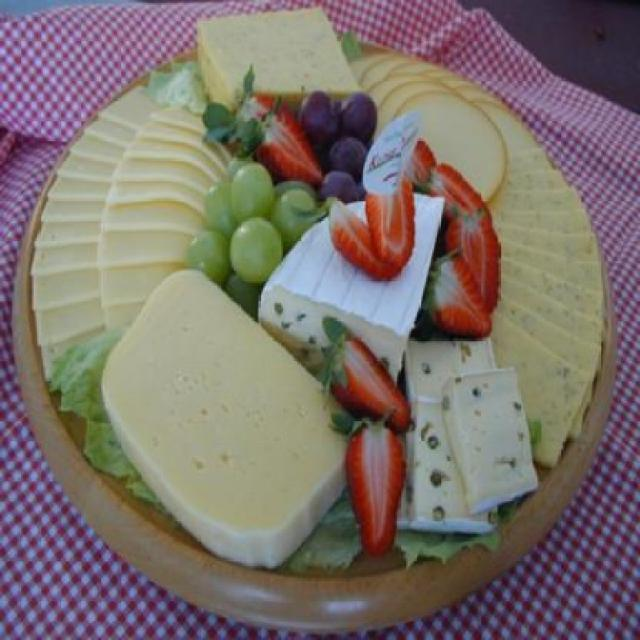Cheese: (96, 266, 354, 572), (255, 192, 447, 380), (394, 332, 540, 534), (198, 3, 360, 115)
